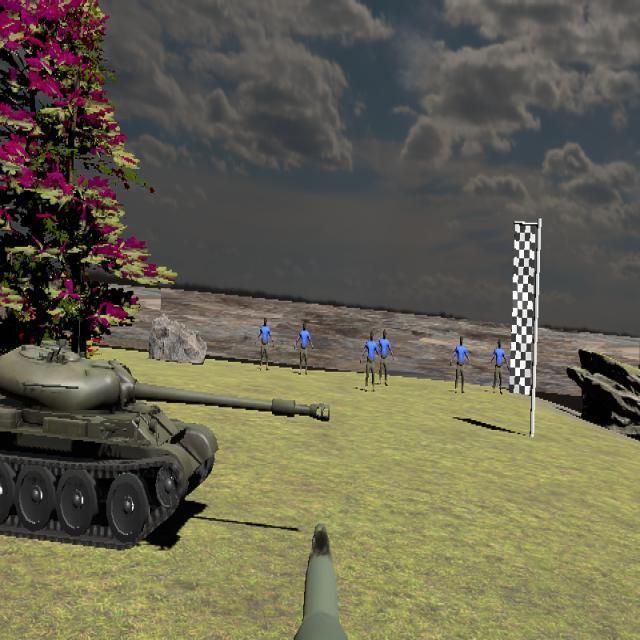Human: (450, 335, 472, 394), (361, 330, 382, 391), (489, 339, 509, 395), (375, 329, 394, 387), (294, 322, 313, 376), (255, 317, 274, 371)
Tank: (0, 336, 329, 547)
